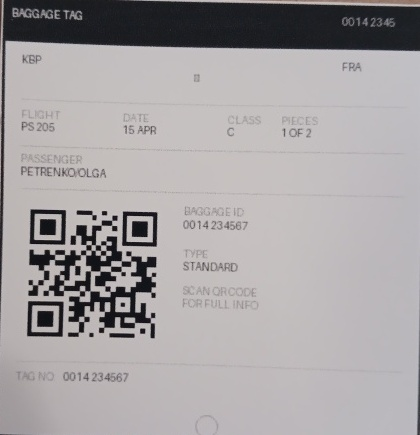LPN_bottom: (57, 365, 133, 387)
LPN_right: (182, 216, 250, 234)
